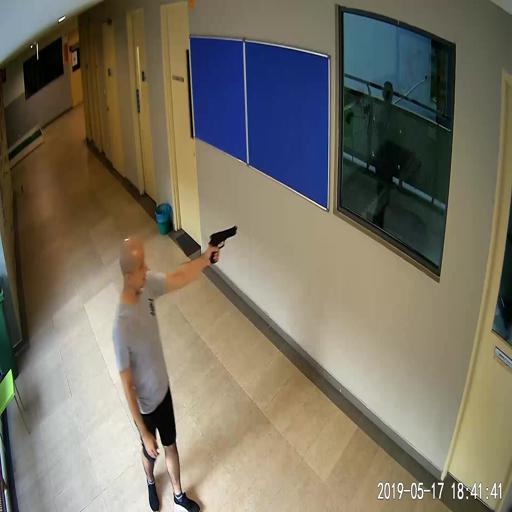pistol: (209, 225, 237, 263)
